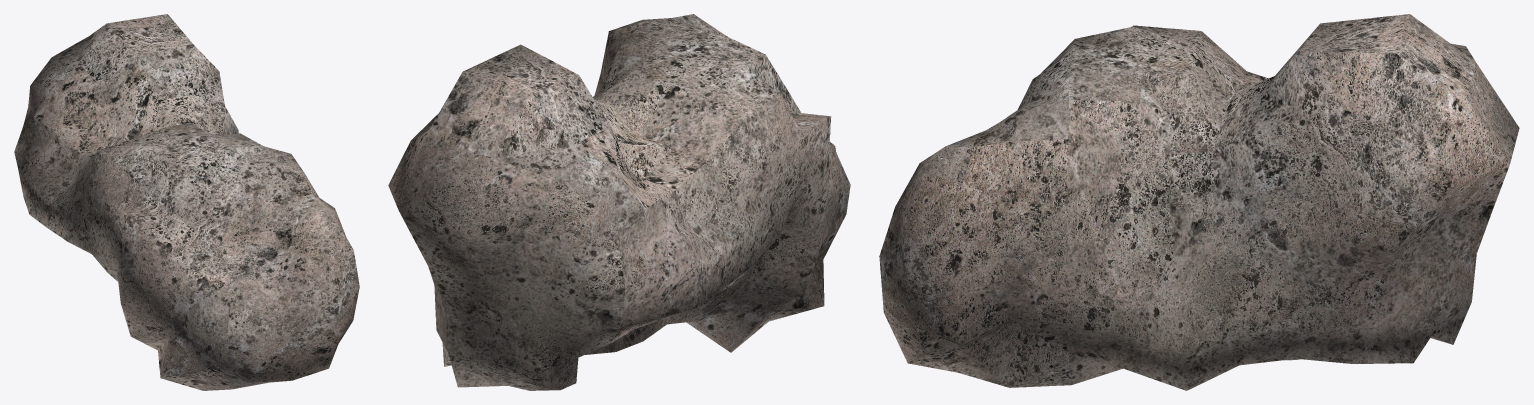
Rendered from Rock_10x20_A.FBX.
3 views of the same model, side by side, from view 1: azimuth 30°, elevation 25°; view 2: azimuth 150°, elevation 25°; view 3: azimuth 270°, elevation 25° (orthographic). The views are drawn at different scales.
Visible parts, largest first — view 1: Rock_10x20_A; view 2: Rock_10x20_A; view 3: Rock_10x20_A.
Boxes of the visible parts, x1,y1,x2,y2 form: Rock_10x20_A: (14, 14, 359, 390); Rock_10x20_A: (388, 14, 850, 390); Rock_10x20_A: (879, 14, 1519, 390).
Size of the model in its own units: 11.46 by 14.07 by 22.07.
1 material, 1 textured.
